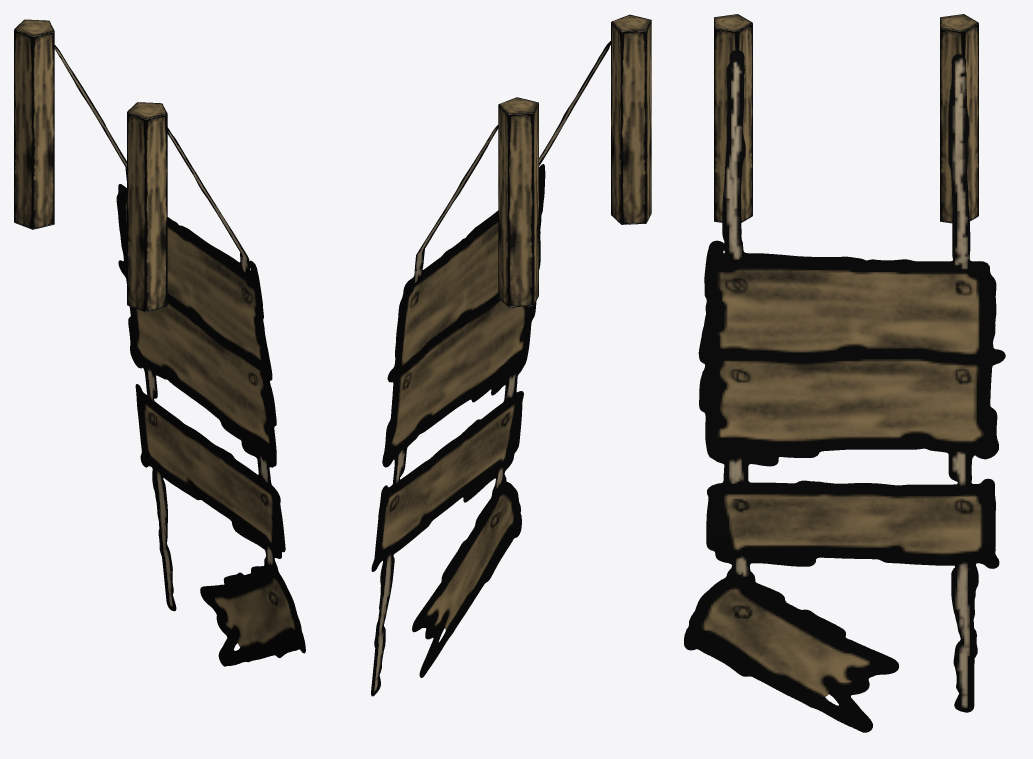
The model's file is bridge.fbx.
3 views of the same model, side by side, from view 1: azimuth 30°, elevation 25°; view 2: azimuth 150°, elevation 25°; view 3: azimuth 270°, elevation 25° (orthographic).
Visible parts, largest first — view 1: bridge; view 2: bridge; view 3: bridge.
Part boxes in pixels (x1,y1,x2,y2): bridge: (14,19,305,666); bridge: (371,14,651,696); bridge: (684,14,1005,732).
Size of the model in its own units: 8.64 by 33.38 by 15.71.
